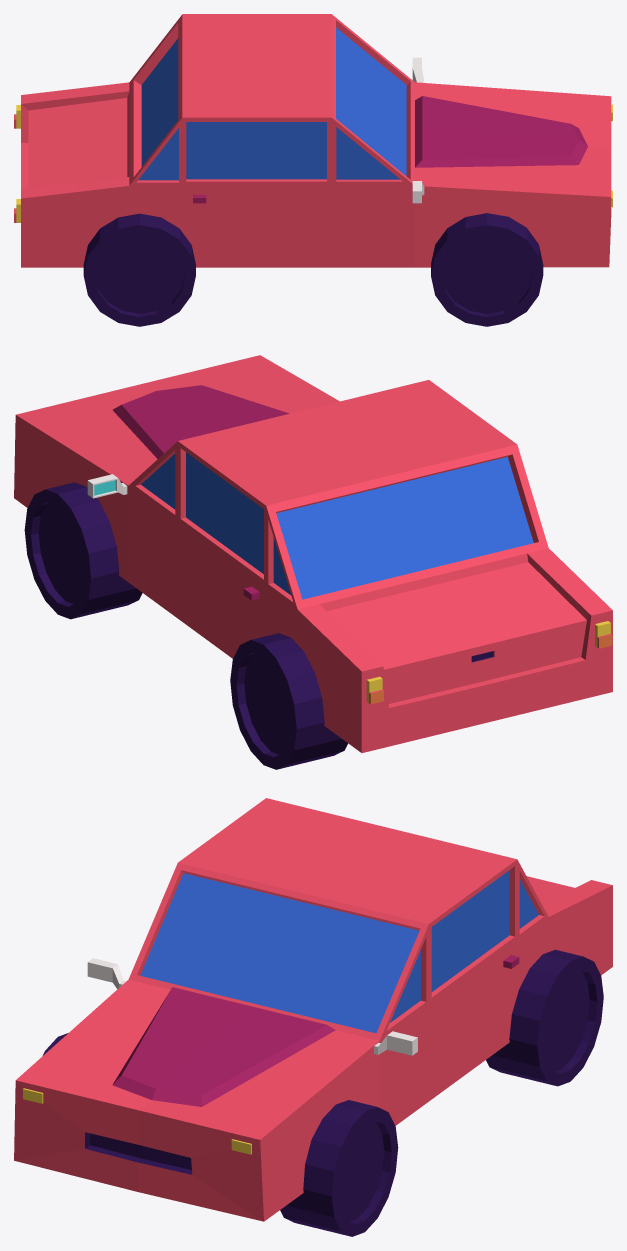
The model's file is LittleCar.glb.
3 views of the same model, one above another, from view 1: azimuth 30°, elevation 25°; view 2: azimuth 150°, elevation 25°; view 3: azimuth 270°, elevation 25° (orthographic). The views are drawn at different scales.
Parts seen in each view (by area): view 1: Car; view 2: Car; view 3: Car.
Part boxes in pixels (x1=…): Car: x1=14, y1=14, x2=612, y2=326; Car: x1=14, y1=355, x2=612, y2=769; Car: x1=14, y1=798, x2=612, y2=1236.
Bounding box in the file's own units: 5.19 × 1.78 × 4.13.
Materials: 1 (1 with a texture image).
